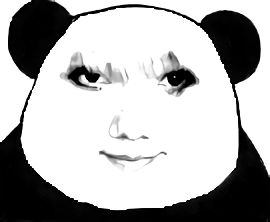dragon: (63, 59, 200, 170)
